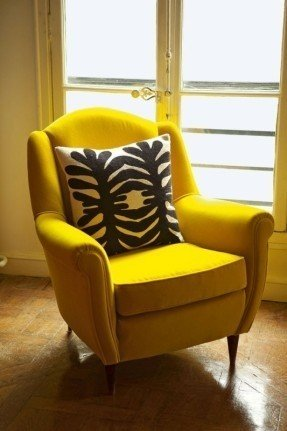chairs: (20, 110, 276, 400)
